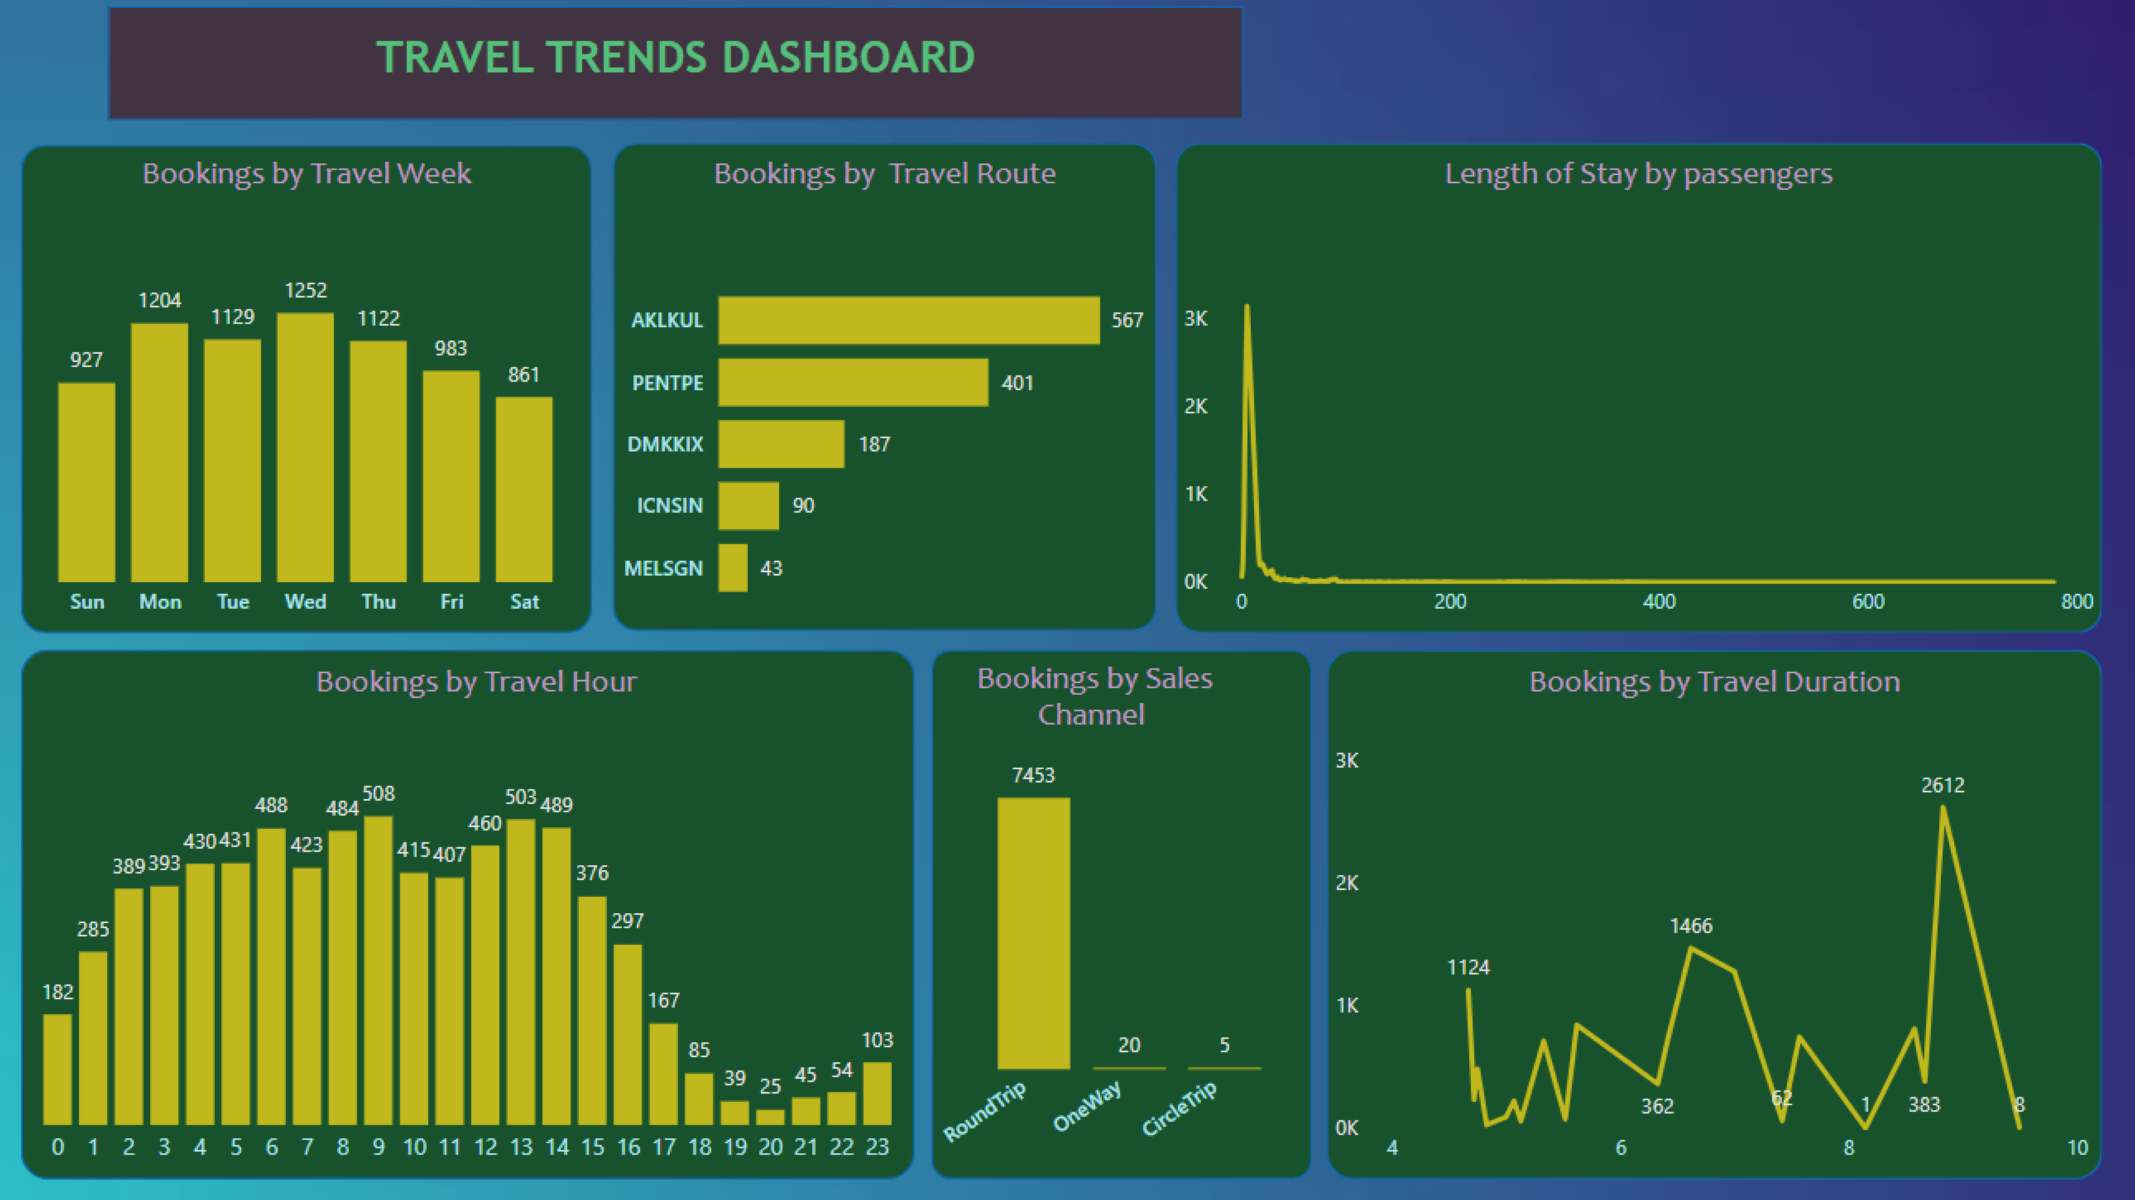

This screenshot's page, from the dashboard's own definition file:
{"tool":"powerbi","page":{"name":"Travel Trends  Dashboard","canvas":[1280,720],"ordinal":2},"visuals":[{"type":"shape","box":[71.2,9.8,673.6,67.5],"z":0},{"type":"shape","box":[19.6,92,338.7,289.6],"z":1000},{"type":"shape","box":[793.9,391.4,460.1,314.1],"z":2000},{"type":"shape","box":[19.6,391.4,530.1,314.1],"z":3000},{"type":"shape","box":[704.3,90.8,549.7,290.8],"z":4000},{"type":"shape","box":[370.6,90.8,322.7,289.6],"z":5000},{"type":"textbox","box":[71.2,19.6,673.6,57.7],"z":6000},{"type":"columnChart","fields":{"Category":["customer_booking.flight_day"],"Y":["customer_booking.Total Bookings"]},"box":[19.6,154.6,338.7,227],"z":7000},{"type":"barChart","fields":{"Category":["customer_booking.route"],"Y":["customer_booking.Total Bookings"]},"box":[370.6,154.6,320.2,223.3],"z":8000},{"type":"columnChart","fields":{"Category":["customer_booking.flight_hour"],"Y":["customer_booking.Total Bookings"]},"box":[19.6,451.5,530.1,254],"z":9000},{"type":"lineChart","fields":{"Category":["customer_booking.flight_duration"],"Y":["customer_booking.Total Passengers"]},"box":[793.9,442.9,460.1,262.6],"z":10000},{"type":"lineChart","fields":{"Category":["customer_booking.length_of_stay"],"Y":["customer_booking.Total Passengers"]},"box":[704.3,154.6,549.7,227],"z":11000},{"type":"shape","box":[559.5,391.4,225.8,314.1],"z":12000},{"type":"textbox","box":[19.6,92,338.7,35.6],"z":13000},{"type":"textbox","box":[370.6,92,322.7,49.1],"z":14000},{"type":"textbox","box":[706.8,92,544.8,35.6],"z":15000},{"type":"textbox","box":[29.4,393.9,520.2,49.1],"z":16000},{"type":"textbox","box":[559.5,391.4,193.9,60.1],"z":17000},{"type":"textbox","box":[793.9,393.9,460.1,49.1],"z":18000},{"type":"columnChart","fields":{"Category":["customer_booking.trip_type"],"Y":["customer_booking.Total Bookings"]},"box":[559.5,442.9,225.8,262.6],"z":19000}]}

Visuals, with their boxes in screenshot pixels (x1, y1, x2, y2), scaled from the page's 1280x720 canvas onto the 2135x1200 screenshot:
shape: region(119, 16, 1242, 129)
shape: region(33, 153, 598, 636)
shape: region(1324, 652, 2092, 1176)
shape: region(33, 652, 917, 1176)
shape: region(1175, 151, 2092, 636)
shape: region(618, 151, 1156, 634)
textbox: region(119, 33, 1242, 129)
columnChart - customer_booking.flight_day x customer_booking.Total Bookings: region(33, 258, 598, 636)
barChart - customer_booking.route x customer_booking.Total Bookings: region(618, 258, 1152, 630)
columnChart - customer_booking.flight_hour x customer_booking.Total Bookings: region(33, 752, 917, 1176)
lineChart - customer_booking.flight_duration x customer_booking.Total Passengers: region(1324, 738, 2092, 1176)
lineChart - customer_booking.length_of_stay x customer_booking.Total Passengers: region(1175, 258, 2092, 636)
shape: region(933, 652, 1310, 1176)
textbox: region(33, 153, 598, 213)
textbox: region(618, 153, 1156, 235)
textbox: region(1179, 153, 2088, 213)
textbox: region(49, 656, 917, 738)
textbox: region(933, 652, 1257, 752)
textbox: region(1324, 656, 2092, 738)
columnChart - customer_booking.trip_type x customer_booking.Total Bookings: region(933, 738, 1310, 1176)
